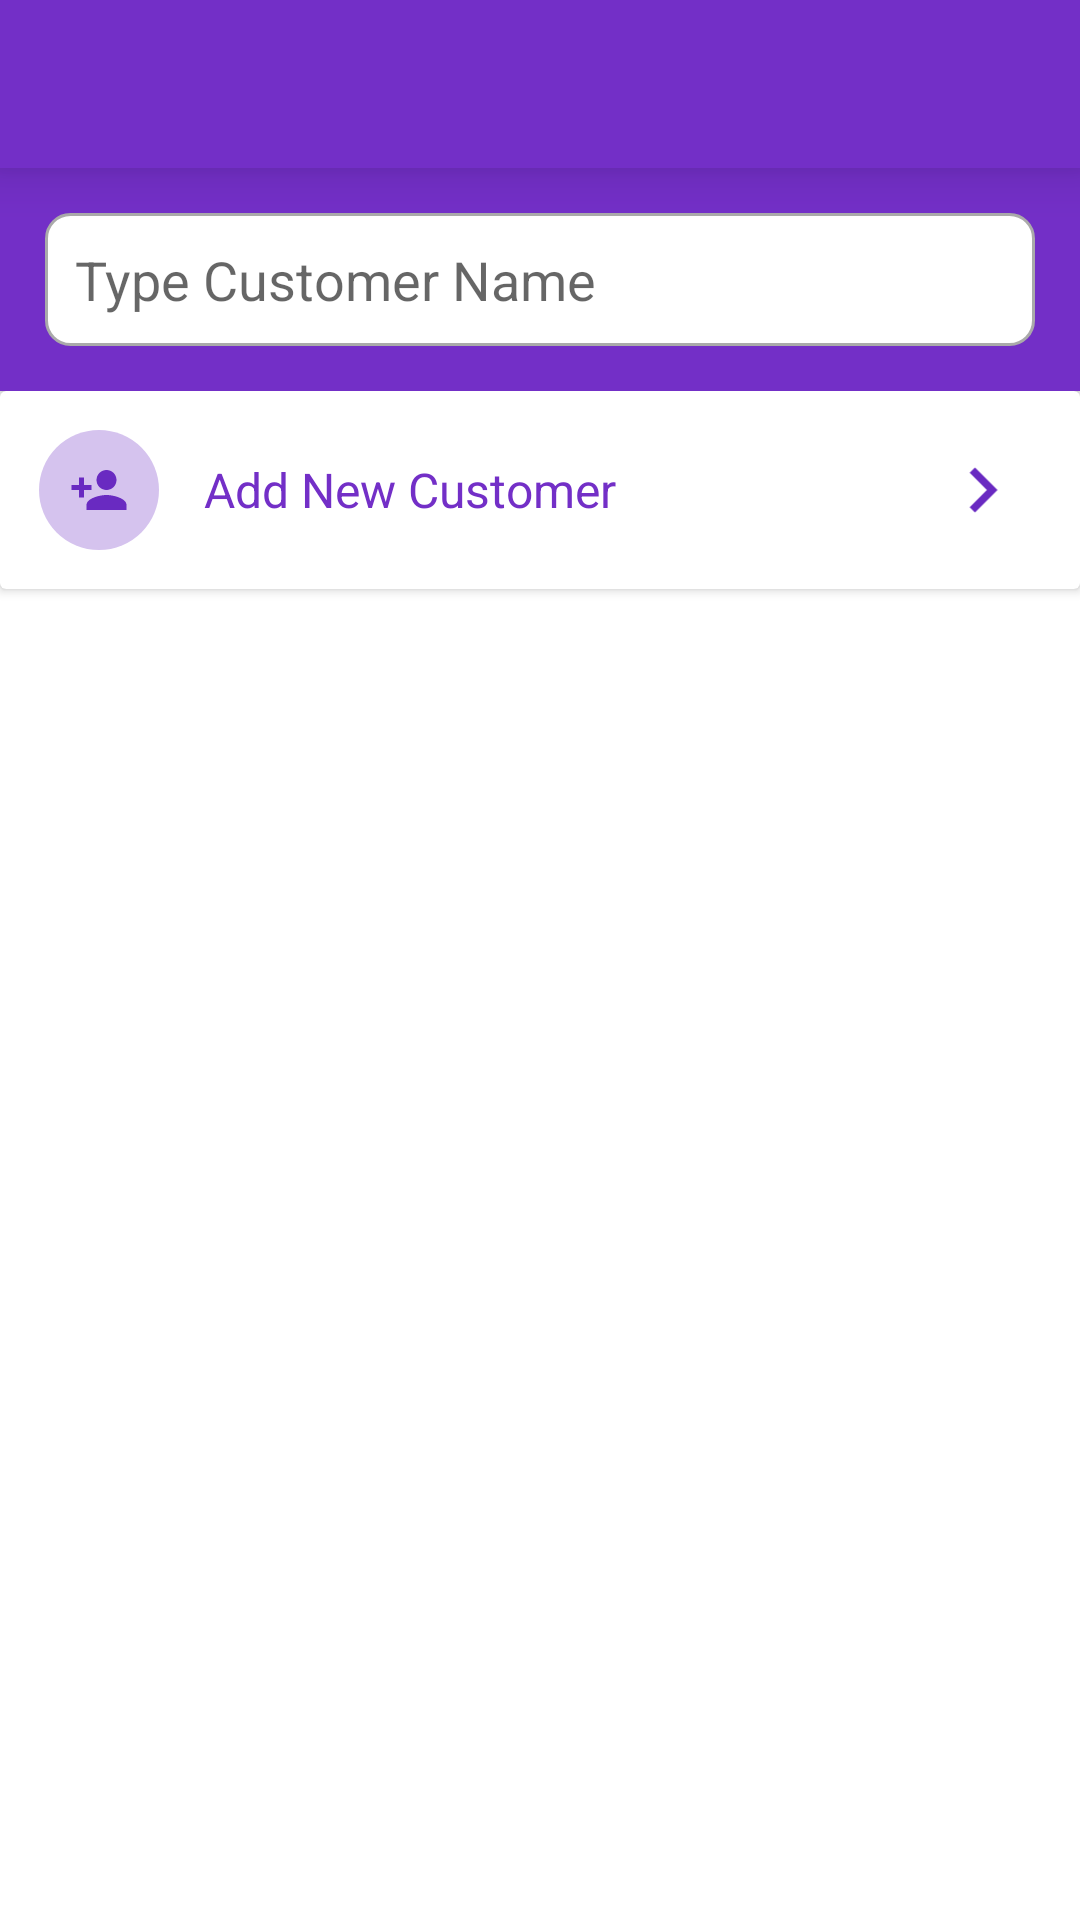

Icons on this 1080px×1920px Android screen, each with its box as [x1,y1,x2,y2]:
contact: [39,430,159,550]
right arrow: [969,467,998,513]
